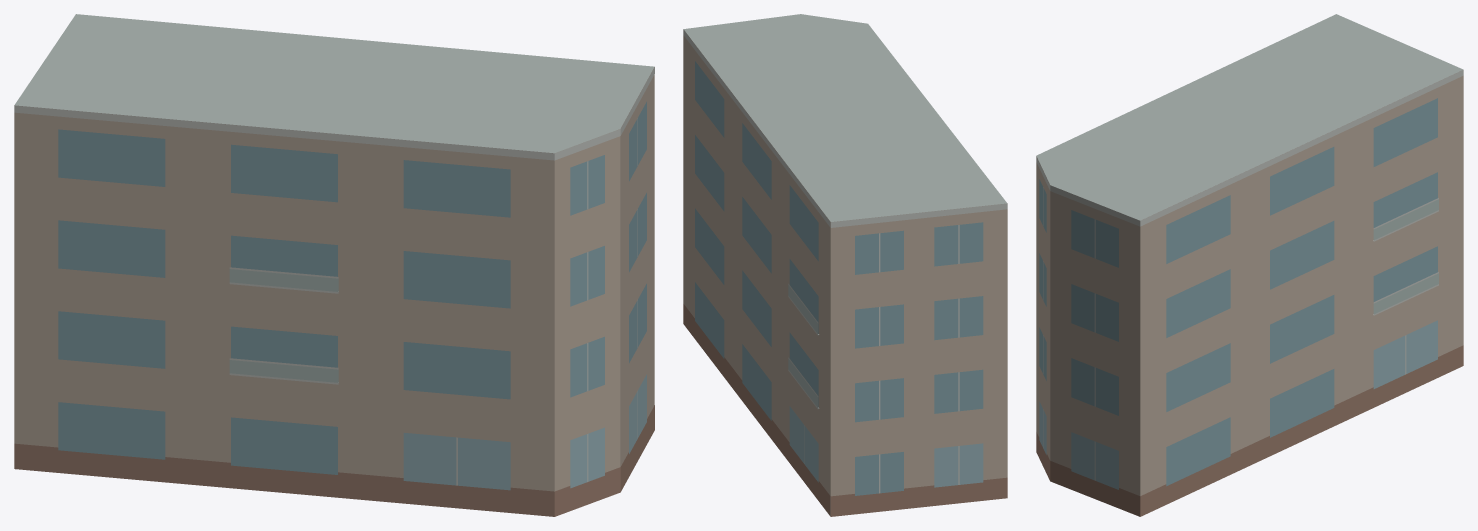
The model's file is survey-upis-32647780.glb.
The picture shows the model from 3 angles, left to right: view 1: azimuth 30°, elevation 25°; view 2: azimuth 150°, elevation 25°; view 3: azimuth 270°, elevation 25°; orthographic projection. The views are drawn at different scales.
Parts seen in each view (by area): view 1: survey-upis-32647780.tmp; view 2: survey-upis-32647780.tmp; view 3: survey-upis-32647780.tmp.
Part boxes in pixels (bbox=[...]): survey-upis-32647780.tmp: bbox=[14, 14, 654, 516]; survey-upis-32647780.tmp: bbox=[683, 14, 1007, 516]; survey-upis-32647780.tmp: bbox=[1036, 14, 1463, 516].
Bounding box in the file's own units: 18.27 × 12.2 × 15.97.
